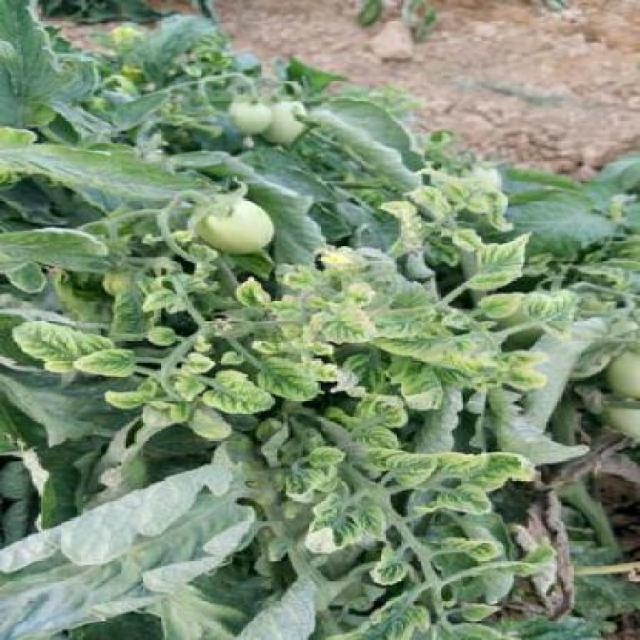Healthy Leaf: (400, 328, 522, 386), (7, 312, 96, 381), (194, 374, 294, 424), (466, 232, 542, 293), (298, 491, 358, 566), (292, 303, 388, 346), (456, 448, 544, 492), (245, 357, 324, 406), (348, 394, 415, 449), (82, 342, 149, 386), (524, 288, 578, 340), (380, 452, 442, 483)
